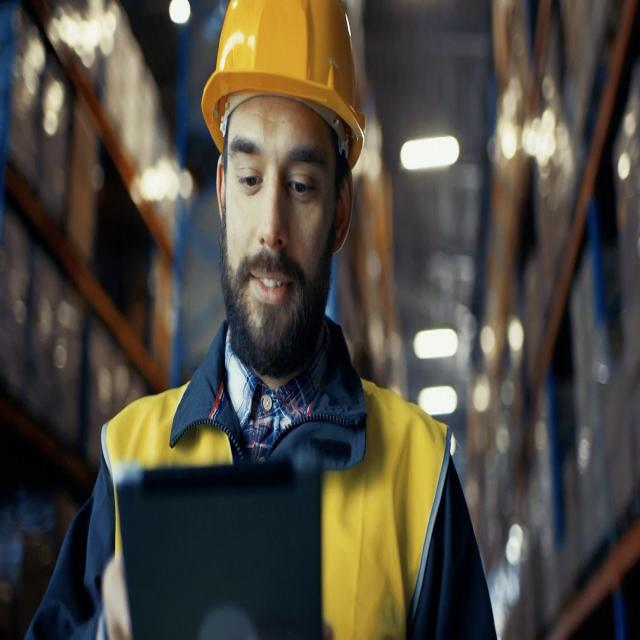Reflective-Jacket: (99, 354, 452, 640)
Safety-Helmet: (199, 3, 371, 161)
